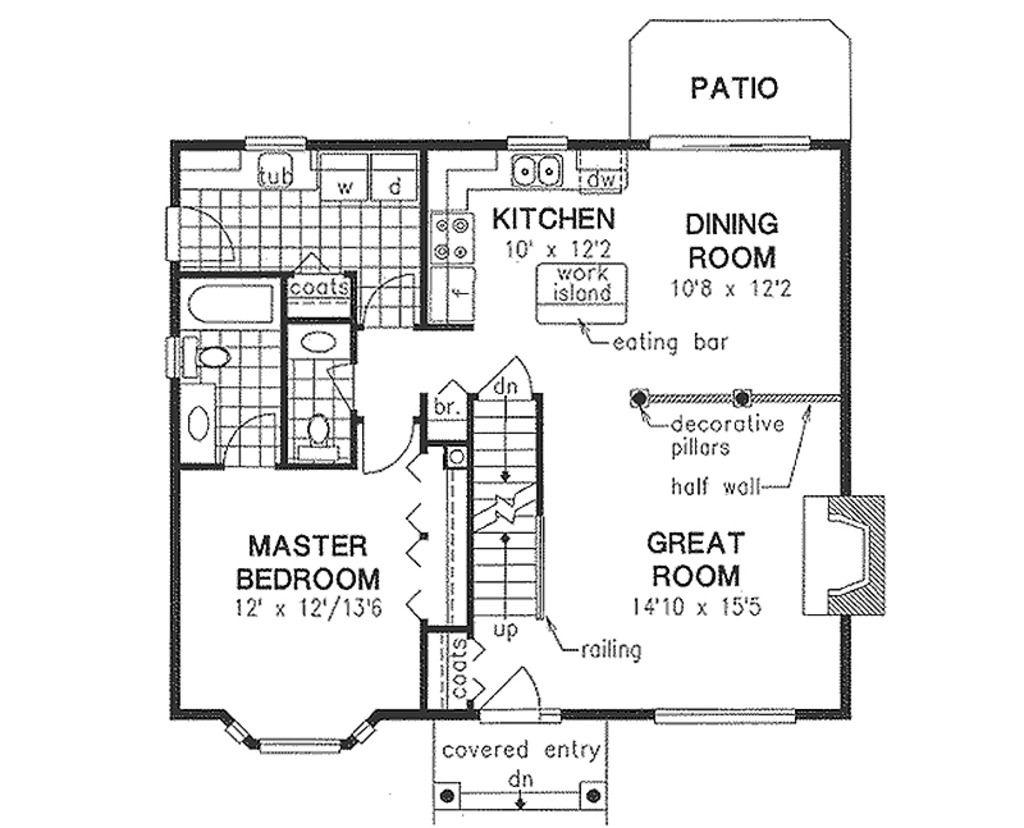door: (155, 196, 252, 263), (478, 667, 556, 724), (354, 268, 423, 329), (360, 413, 423, 475), (222, 410, 292, 465), (470, 351, 541, 401)
large_sink: (163, 329, 237, 381), (301, 409, 346, 465)
small_sink: (169, 375, 224, 464), (283, 323, 355, 363)
stairs: (472, 395, 547, 623)
tub: (174, 270, 284, 324)
twin_sink: (496, 143, 578, 201)
window: (214, 711, 383, 765), (642, 128, 814, 155), (652, 706, 809, 727), (500, 136, 578, 142)
